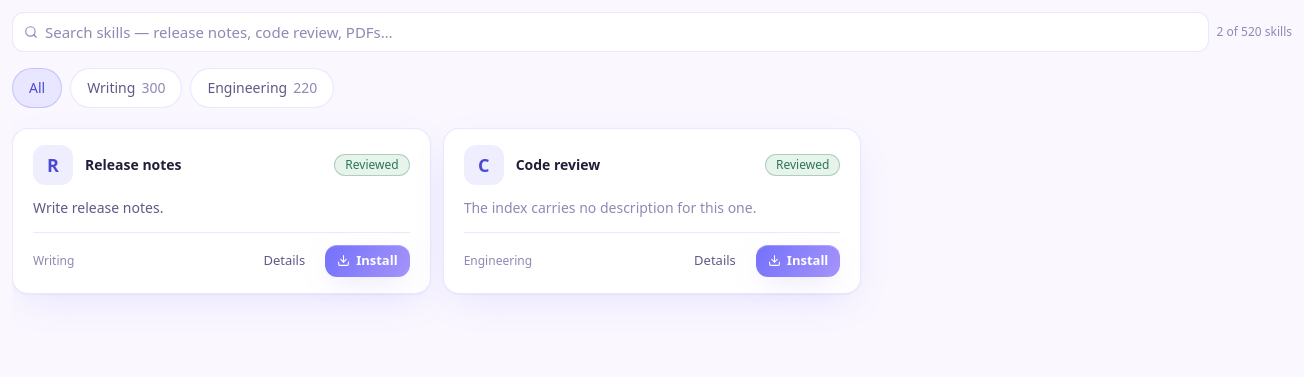
SkillCatalogGallery › surfaces the server's refusal and offers the button again
Click the button with aria-label "Install Release notes": (367, 261) [325,245,410,277]
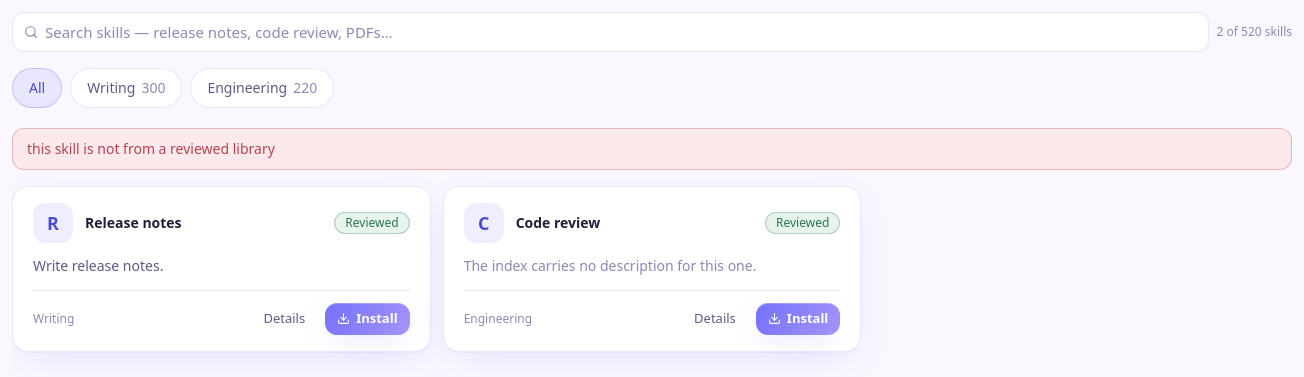
Expected: the button with aria-label "Install Release notes" is shown, [325,303,410,335]
Result: the message shows "not from a reviewed library" at [27,139,275,158]
